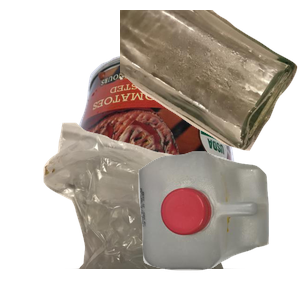glass: (120, 10, 300, 153)
metal: (62, 47, 300, 227)
plastic: (136, 149, 300, 300)
trash: (41, 120, 276, 300)
